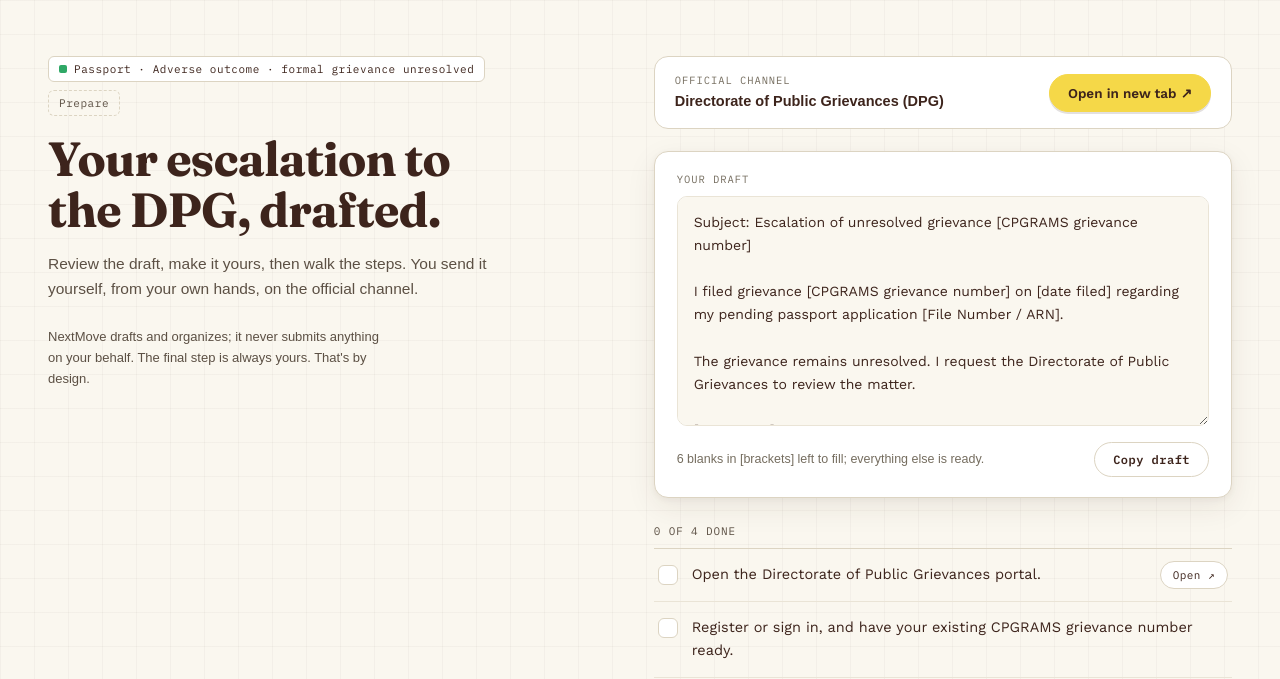
Scenario: the draft card › the blank-count hint is live and plural-correct as the user edits
The image size is (1280, 679).
Replace the text in the text box named "Editable draft" with "one [a] two [b]" at (943, 311), box [677, 196, 1209, 426]
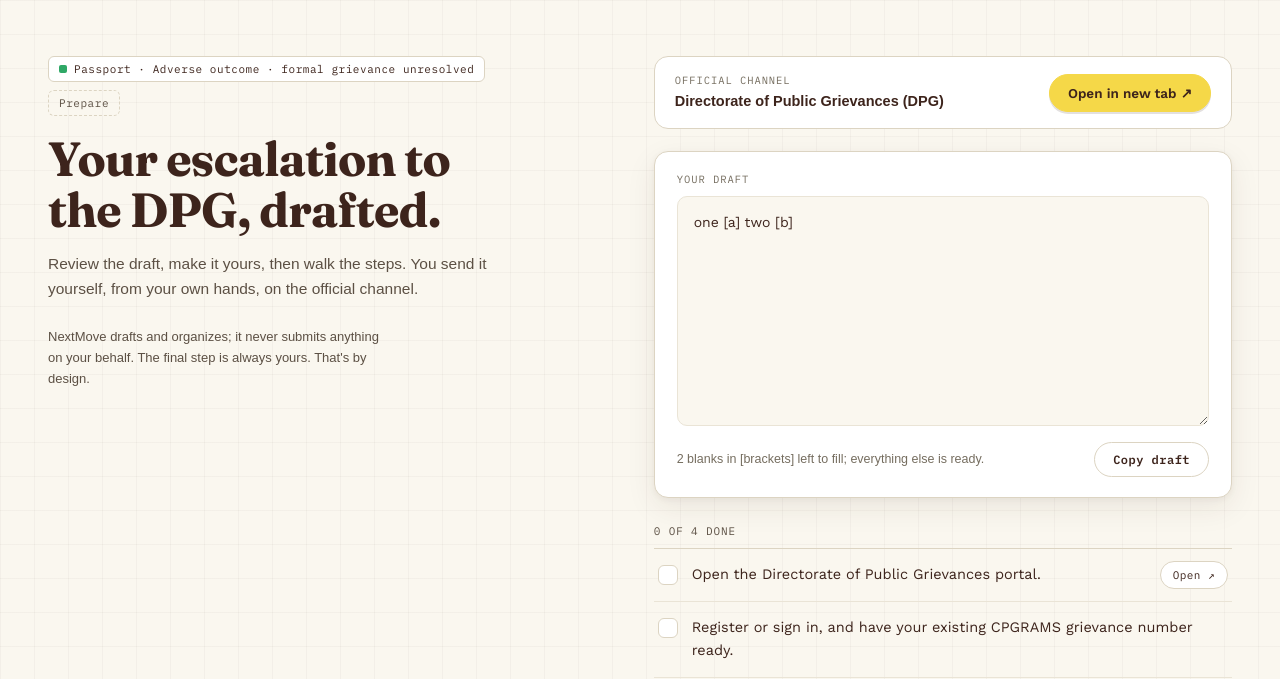
Replace the text in the text box named "Editable draft" with "only [a]" at (943, 311), box [677, 196, 1209, 426]
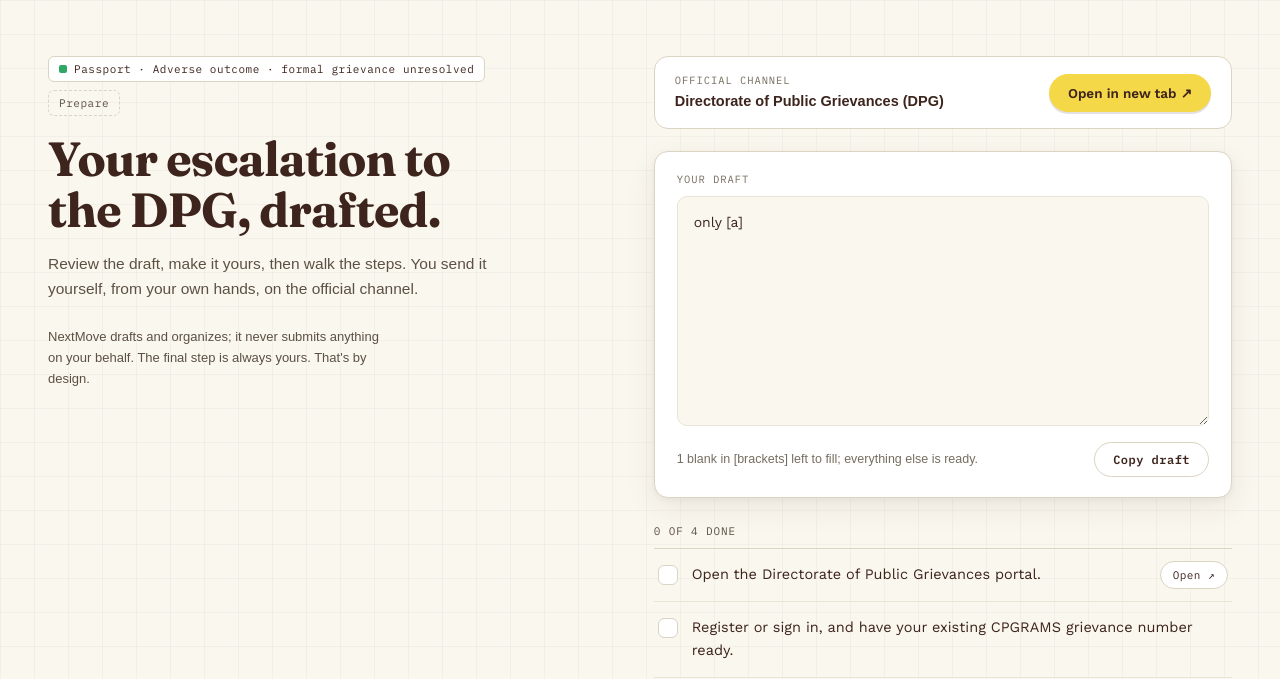
Replace the text in the text box named "Editable draft" with "nothing left to fill" at (943, 311), box [677, 196, 1209, 426]
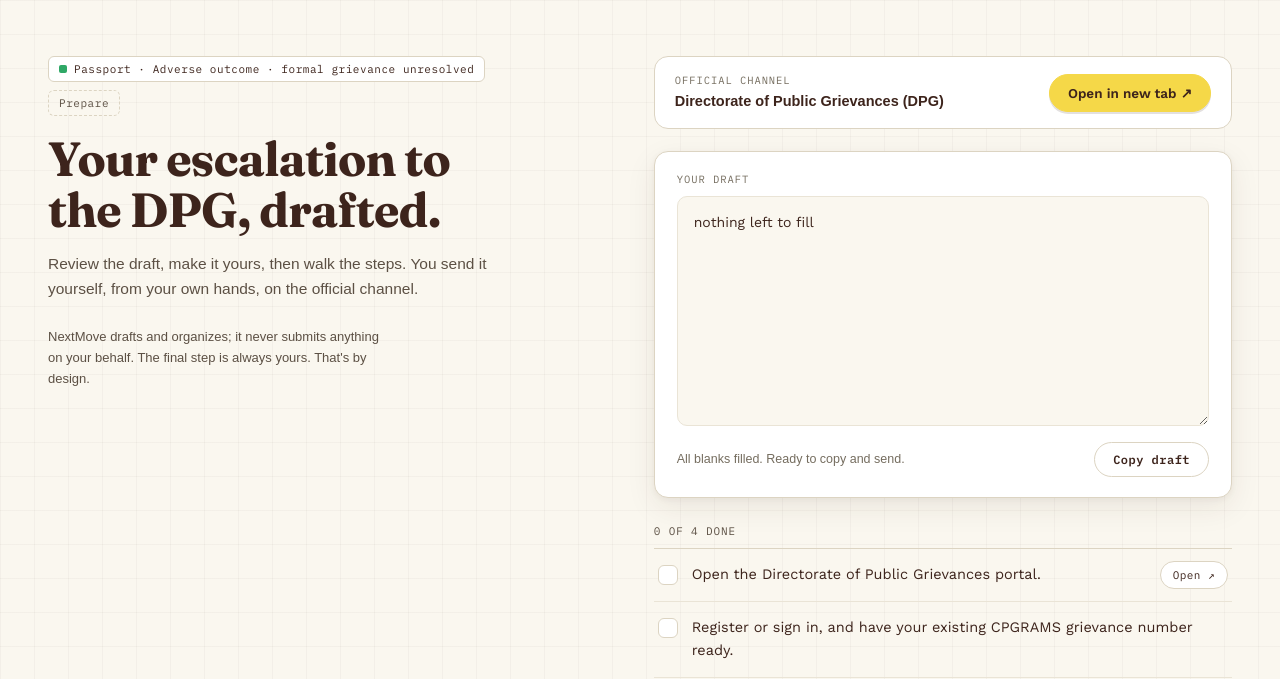
Expected: the text "All blanks filled. Ready to copy and send." is shown, [677, 452, 905, 466]
